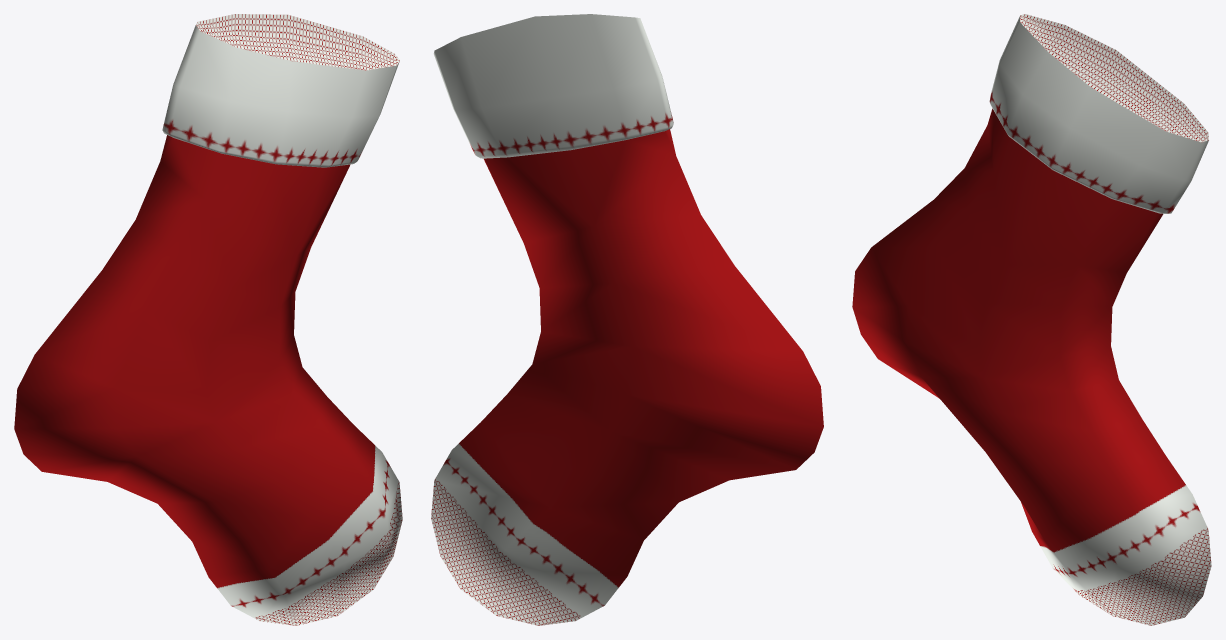
Rendered from socks-1.glb.
The picture shows the model from 3 angles, left to right: view 1: azimuth 30°, elevation 25°; view 2: azimuth 150°, elevation 25°; view 3: azimuth 330°, elevation 25°; orthographic projection. The views are drawn at different scales.
Visible parts, largest first — view 1: norvedem-sock; view 2: norvedem-sock; view 3: norvedem-sock.
Boxes of the visible parts, bbox=[...] form: norvedem-sock: bbox=[14, 14, 402, 625]; norvedem-sock: bbox=[431, 14, 823, 625]; norvedem-sock: bbox=[852, 14, 1211, 625].
Size of the model in its own units: 0.1716 by 0.2645 by 0.0366.
Materials: 1 (1 with a texture image).
